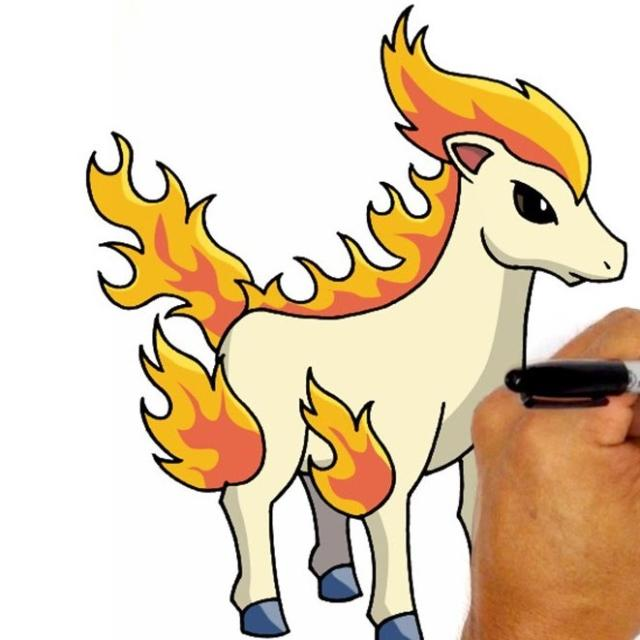Ponyta: (168, 34, 616, 634)
